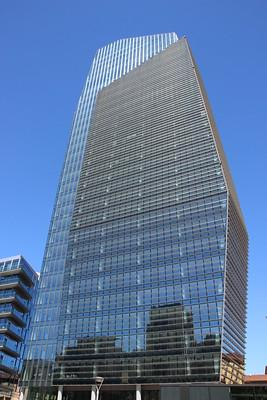building: (22, 25, 252, 395)
